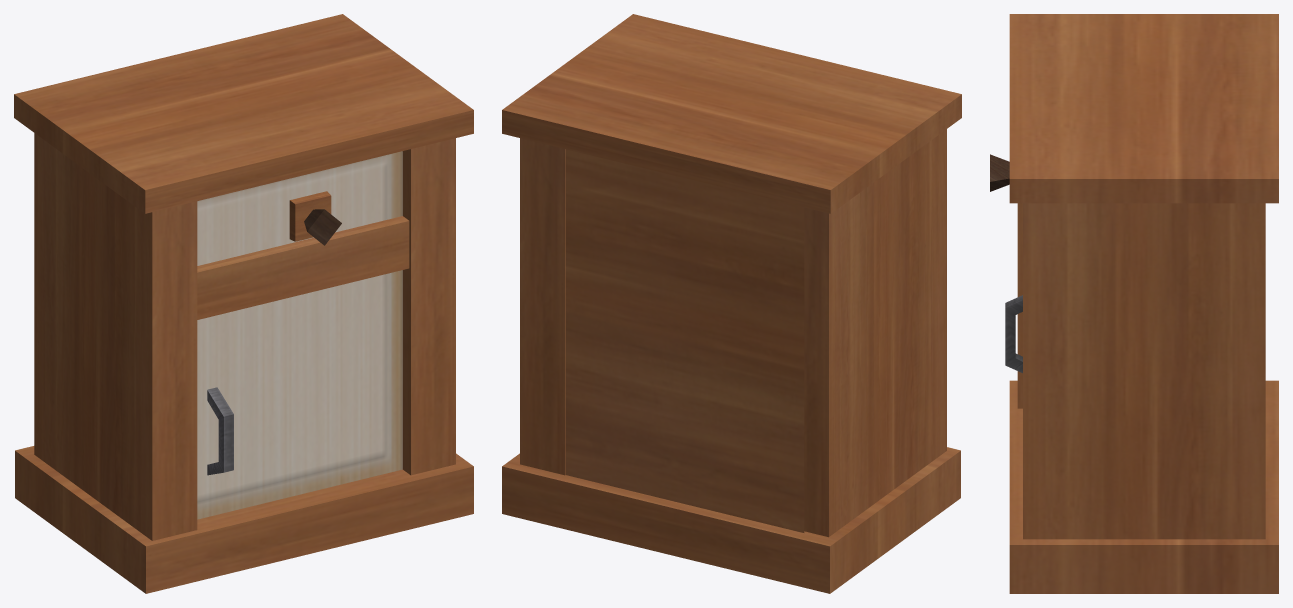
The model's file is Cupboard_3_2.fbx.
The picture shows the model from 3 angles, left to right: view 1: azimuth 30°, elevation 25°; view 2: azimuth 150°, elevation 25°; view 3: azimuth 270°, elevation 25°; orthographic projection. The views are drawn at different scales.
Visible parts, largest first — view 1: polySurface1497; view 2: polySurface1497; view 3: polySurface1497.
Part boxes in pixels (x1,y1,x2,y2): polySurface1497: [14, 14, 473, 593]; polySurface1497: [502, 14, 961, 593]; polySurface1497: [990, 14, 1278, 593].
Size of the model in its own units: 0.7239 by 0.85 by 0.5362.
